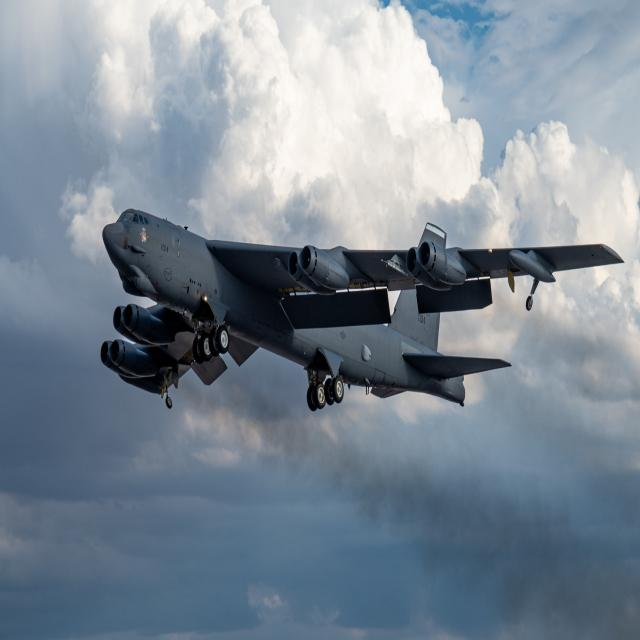B1: (77, 188, 632, 443)
